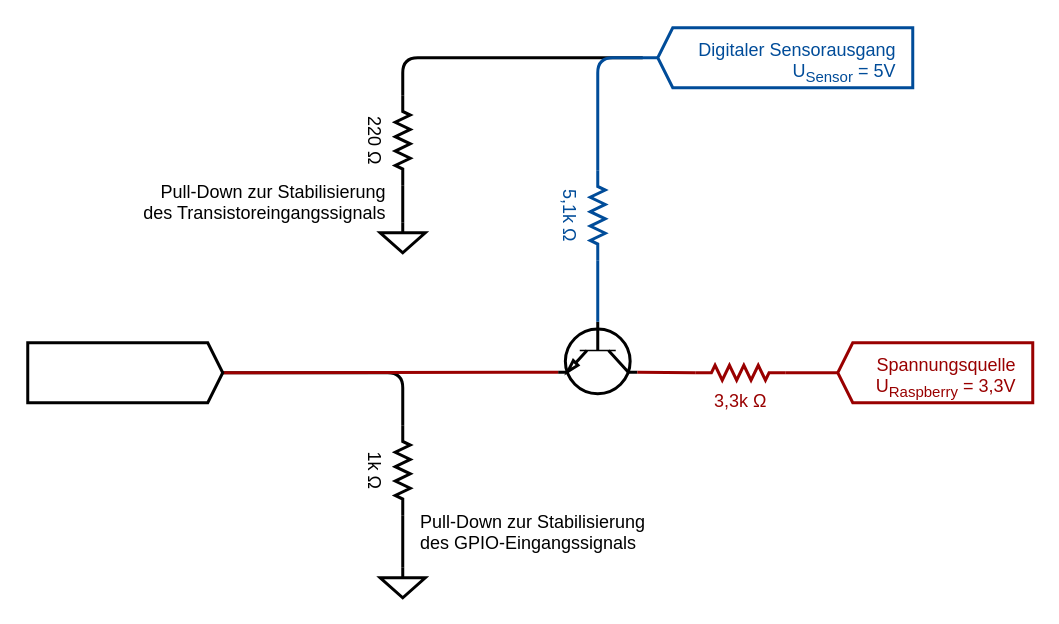
The diagram is 1059 pixels wide and 624 high, and some of its shapes have lost their labels. The centre of each missing label's shape, as x and y in pixels:
NPN-Transistor: the point at 597,357
Raspberry Pi GPIO-Eingang: the point at 125,372
